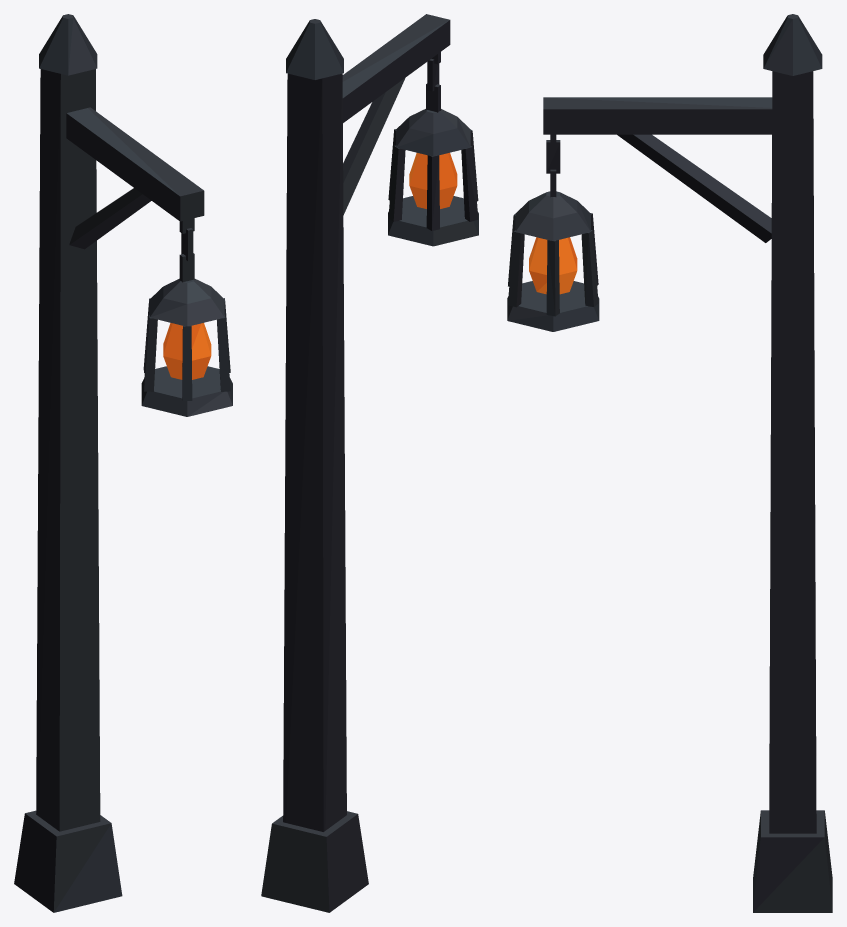
Rendered from post_lantern.gltf.
3 renders of one model, left to right at view 1: azimuth 30°, elevation 25°; view 2: azimuth 150°, elevation 25°; view 3: azimuth 270°, elevation 25°, orthographic.
Visible parts, largest first — view 1: post_lantern; view 2: post_lantern; view 3: post_lantern.
Boxes of the visible parts, x1,y1,x2,y2 form: post_lantern: (14, 14, 232, 912); post_lantern: (261, 14, 478, 912); post_lantern: (507, 14, 832, 912).
Size of the model in its own units: 0.532 by 4.86 by 1.63.
Materials: 2 (2 with a texture image).
